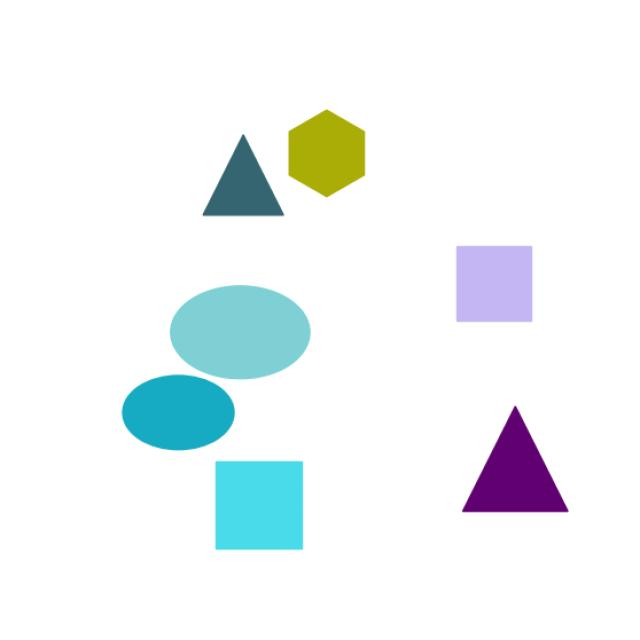Hexagon: (278, 112, 386, 199)
Oval: (161, 278, 324, 385), (110, 366, 248, 455)
Triangle: (453, 402, 588, 535), (202, 122, 298, 230)
square: (197, 445, 321, 560), (437, 230, 542, 335)
